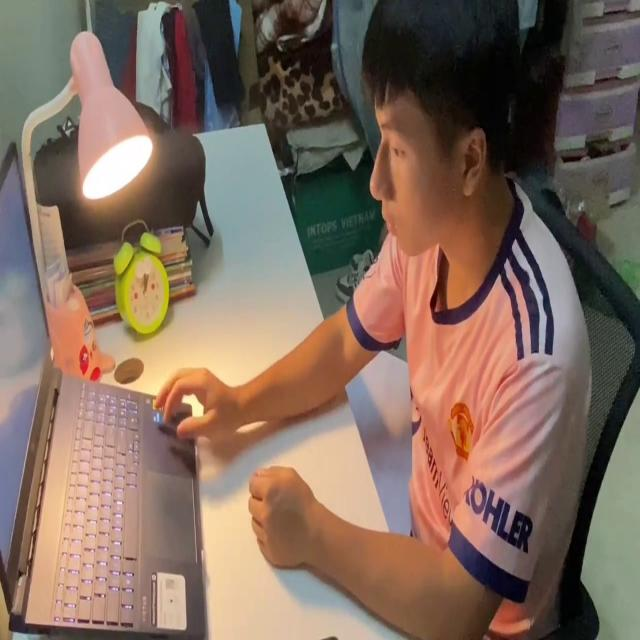book: (343, 348, 417, 541)
laptop: (0, 138, 208, 640)
student: (151, 0, 593, 640)
